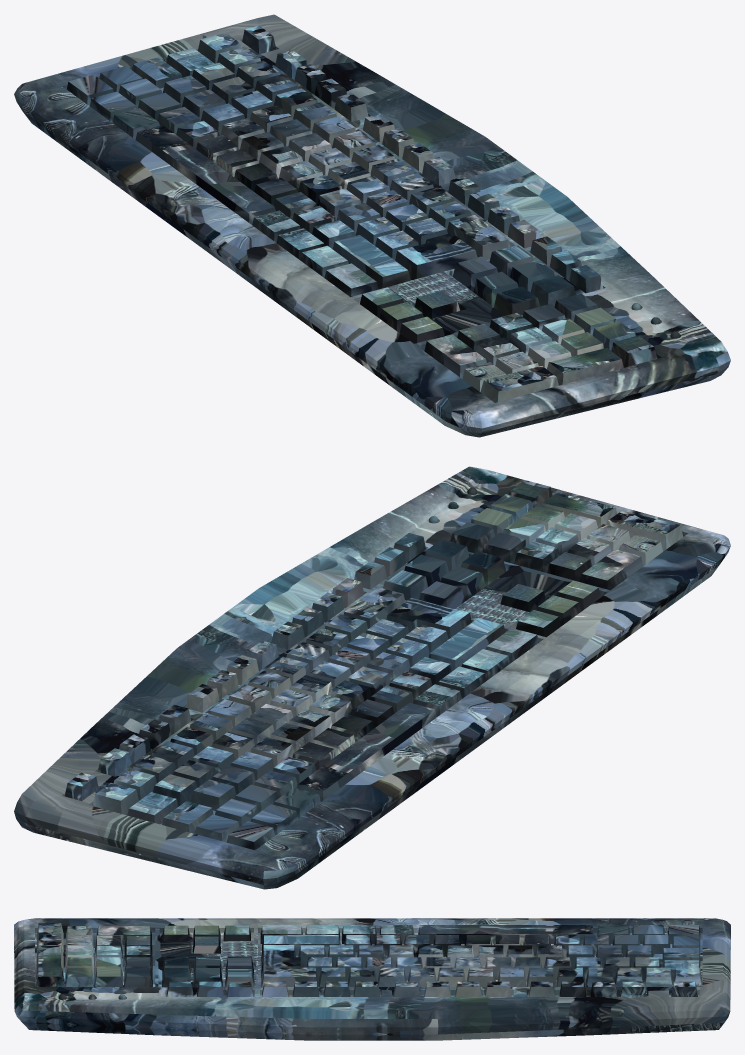
File: futuristic_room_22.obj
The picture shows the model from 3 angles, top to bottom: view 1: azimuth 30°, elevation 25°; view 2: azimuth 150°, elevation 25°; view 3: azimuth 270°, elevation 25°; orthographic projection. The views are drawn at different scales.
Bounding box in the file's own units: 0.2526 × 0.0335 × 0.6869.
